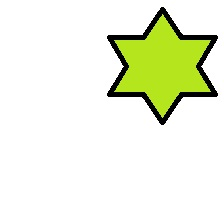star: (106, 6, 219, 126)
